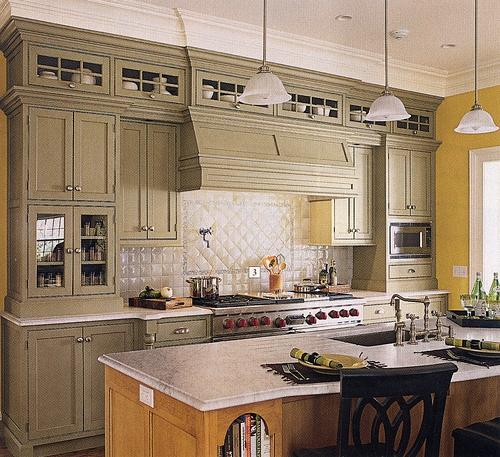onion: (160, 287, 173, 299)
